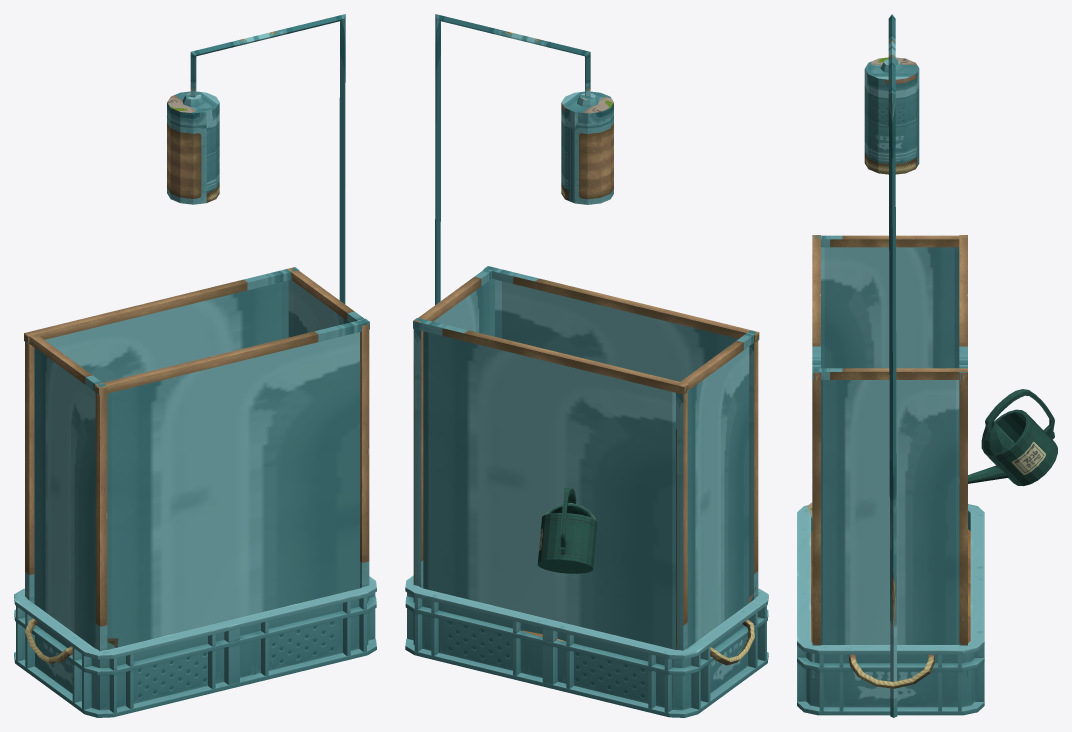
The model's file is P_FlowerPot_011_S1_M02_deng.obj.
3 views of the same model, side by side, from view 1: azimuth 30°, elevation 25°; view 2: azimuth 150°, elevation 25°; view 3: azimuth 270°, elevation 25° (orthographic). The views are drawn at different scales.
Bounding box in the file's own units: 2.02 × 3.74 × 1.41.
Materials: 3 (3 with a texture image).
